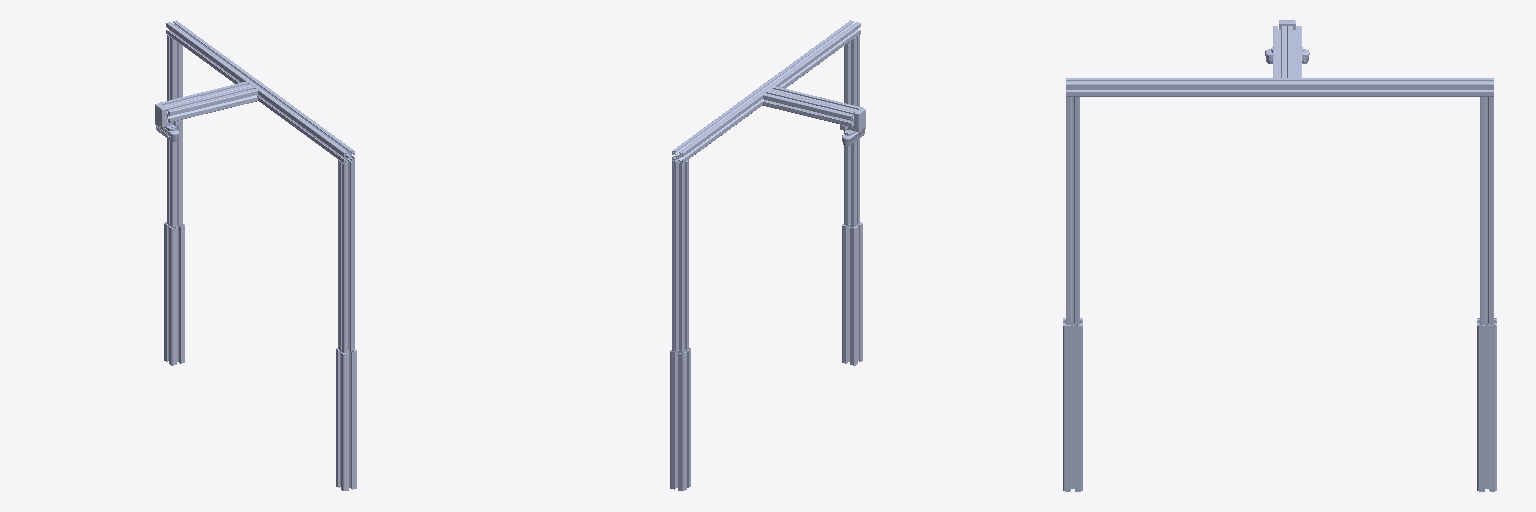
URDF robot description (assembly_environment):
<?xml version="1.0" encoding="utf-8"?>
<!-- This URDF was automatically created by SolidWorks to URDF Exporter! Originally created by [author] ([email redacted]) 
     Commit Version: 1.6.0-4-g7f85cfe  Build Version: 1.6.7995.38578
     For more information, please see http://wiki.ros.org/sw_urdf_exporter -->
<robot
  name="assembly_environment">
  <link
    name="abb_table">
    <inertial>
      <origin
        xyz="0.3325 -4.21884749357559E-15 -0.561084665776162"
        rpy="0 0 0" />
      <mass
        value="580.906725" />
      <inertia
        ixx="80.3766254597463"
        ixy="2.27209454738743E-13"
        ixz="-2.68459570346111E-15"
        iyy="114.089223783965"
        iyz="-5.11466019821722E-14"
        izz="100.823347532969" />
    </inertial>
    <visual>
      <origin
        xyz="0 0 0"
        rpy="0 0 0" />
      <geometry>
        <mesh
          filename="package://assembly_environment/meshes/abb_table.STL" />
      </geometry>
      <material
        name="">
        <color
          rgba="0.792156862745098 0.819607843137255 0.933333333333333 1" />
      </material>
    </visual>
    <collision>
      <origin
        xyz="0 0 0"
        rpy="0 0 0" />
      <geometry>
        <mesh
          filename="package://assembly_environment/meshes/abb_table.STL" />
      </geometry>
    </collision>
  </link>
  <link
    name="ar4_table">
    <inertial>
      <origin
        xyz="-0.429355196387322 7.66053886991358E-15 -0.466079323890767"
        rpy="0 0 0" />
      <mass
        value="173.611" />
      <inertia
        ixx="40.8329345202577"
        ixy="7.78149638062711E-15"
        ixz="-0.417557737412949"
        iyy="53.2325884877173"
        iyz="7.19657072432917E-14"
        izz="33.7279874841262" />
    </inertial>
    <visual>
      <origin
        xyz="0 0 0"
        rpy="0 0 0" />
      <geometry>
        <mesh
          filename="package://assembly_environment/meshes/ar4_table.STL" />
      </geometry>
      <material
        name="">
        <color
          rgba="0.792156862745098 0.819607843137255 0.933333333333333 1" />
      </material>
    </visual>
    <collision>
      <origin
        xyz="0 0 0"
        rpy="0 0 0" />
      <geometry>
        <mesh
          filename="package://assembly_environment/meshes/ar4_table.STL" />
      </geometry>
    </collision>
  </link>
  <joint
    name="ar4_frame"
    type="fixed">
    <origin
      xyz="1.11 0 0.00649999999999995"
      rpy="0 0 3.14159265358979" />
    <parent
      link="abb_table" />
    <child
      link="ar4_table" />
    <axis
      xyz="0 0 0" />
  </joint>
  <link
    name="camera">
    <inertial>
      <origin
        xyz="-0.0149999999999804 0.11499999999998 -0.038"
        rpy="0 0 0" />
      <mass
        value="0.0695172943457205" />
      <inertia
        ixx="0.000368805796800416"
        ixy="-1.39386992529696E-18"
        ixz="9.25408310293584E-21"
        iyy="1.34731108329075E-05"
        iyz="-2.78062407190918E-19"
        izz="0.000368805796800416" />
    </inertial>
    <visual>
      <origin
        xyz="0 0 0"
        rpy="0 0 0" />
      <geometry>
        <mesh
          filename="package://assembly_environment/meshes/camera.STL" />
      </geometry>
      <material
        name="">
        <color
          rgba="0.792156862745098 0.819607843137255 0.933333333333333 1" />
      </material>
    </visual>
    <collision>
      <origin
        xyz="0 0 0"
        rpy="0 0 0" />
      <geometry>
        <mesh
          filename="package://assembly_environment/meshes/camera.STL" />
      </geometry>
    </collision>
  </link>
  <joint
    name="camera_frame"
    type="fixed">
    <origin
      xyz="0.67 0.00999999999999845 0.8035"
      rpy="3.14159265358979 0 1.57079632679489" />
    <parent
      link="abb_table" />
    <child
      link="camera" />
    <axis
      xyz="0 0 0" />
  </joint>
</robot>

--- What the picture shows (computed from the rendered views, not written in the file) ---
Views: 3 orthographic renders of the robot side by side, from view 1: azimuth 30°, elevation 25°; view 2: azimuth 150°, elevation 25°; view 3: azimuth 270°, elevation 25°.
Model assembly_environment with 3 links and 2 joints (2 fixed), rooted at abb_table, posed all joints at 0.
Visible links, largest first — view 1: camera; view 2: camera; view 3: camera.
Link boxes in pixels (x1,y1,x2,y2): camera: (155, 20, 356, 490); camera: (670, 20, 865, 490); camera: (1063, 20, 1496, 491).
Size in the robot's own frame: 0.3 by 0.88 by 0.915 metres.
Meshes: 3 distinct files referenced, 1 mesh visuals loaded (1 binary STL); not drawn: 2 (reference not matched to a file when rendering).